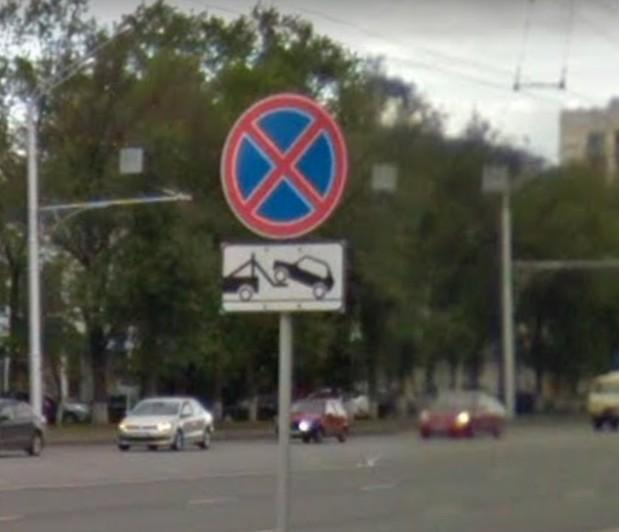No Parking: (217, 91, 350, 242)
